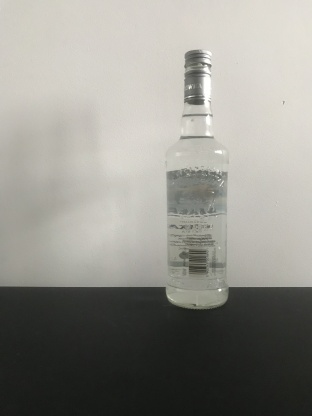nakretka: (182, 47, 213, 105)
